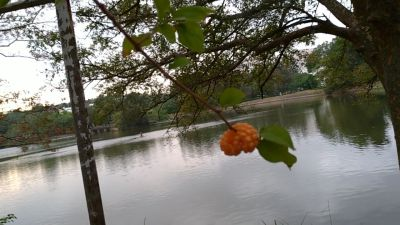eggs: (219, 122, 260, 158)
